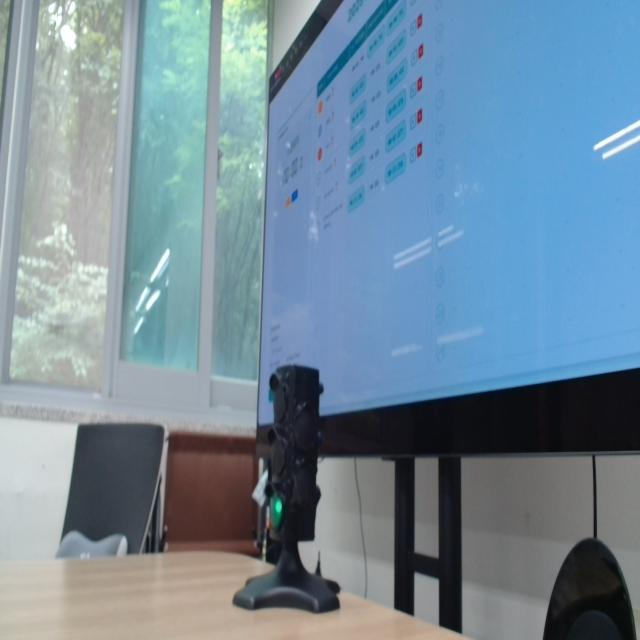green_light: (270, 496, 283, 530), (274, 500, 282, 514)
